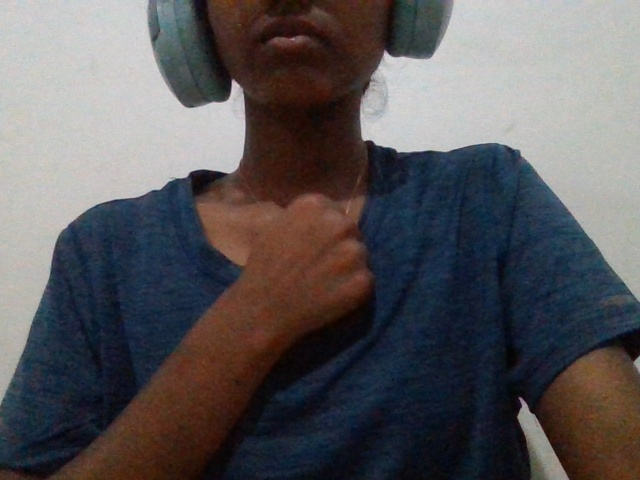Sorry: (216, 185, 394, 388)
